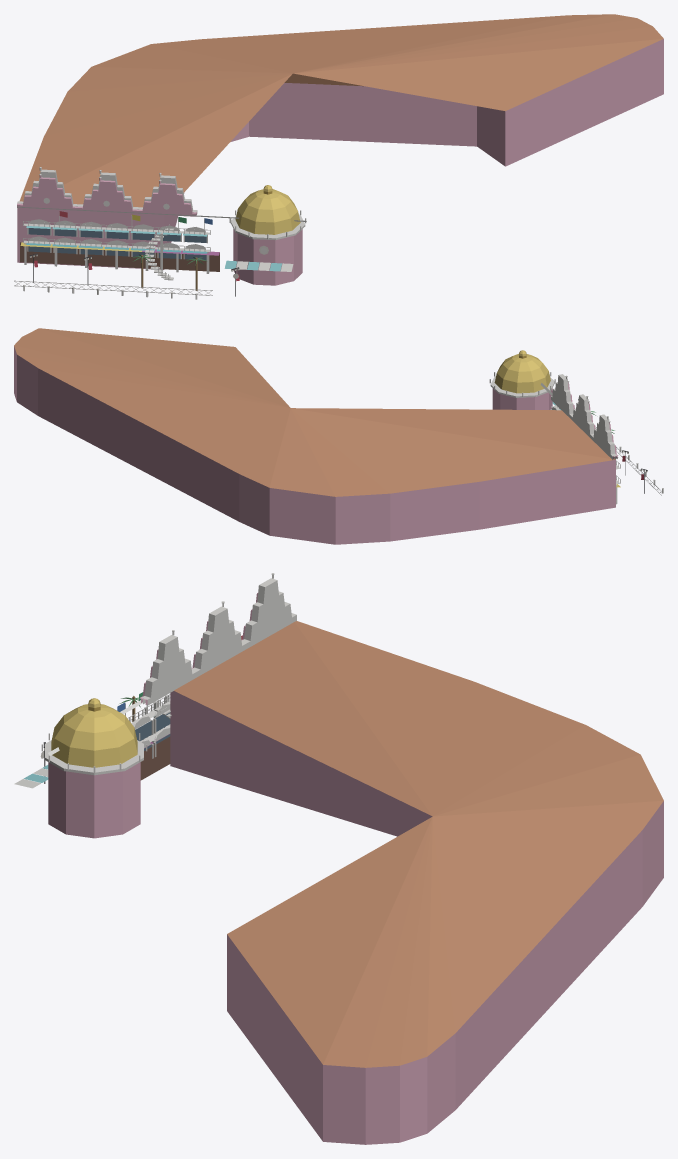
File: royalplaza.glb
3 views of the same model, one above another, from view 1: azimuth 30°, elevation 25°; view 2: azimuth 150°, elevation 25°; view 3: azimuth 270°, elevation 25° (orthographic). The views are drawn at different scales.
Parts seen in each view (by area): view 1: royalplaza_lod0; view 2: royalplaza_lod0; view 3: royalplaza_lod0.
Boxes of the visible parts, x1=… form: royalplaza_lod0: x1=14, y1=14, x2=663, y2=299; royalplaza_lod0: x1=14, y1=328, x2=663, y2=544; royalplaza_lod0: x1=14, y1=573, x2=663, y2=1144.
Size of what is drawn, in the model's own units: 109 by 14.6 by 64.25.
